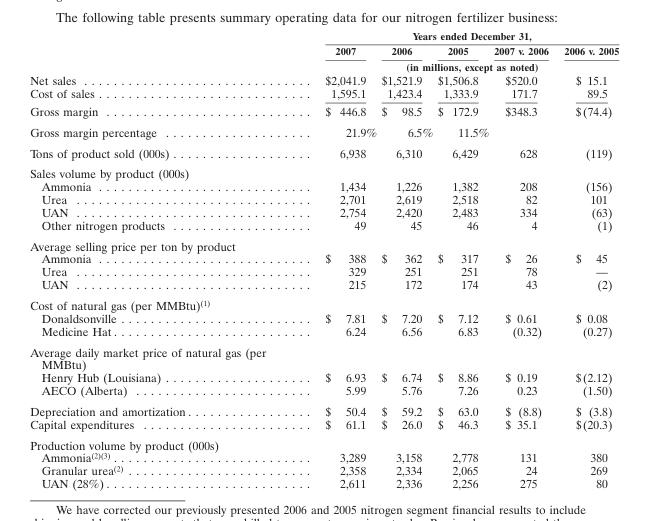table: (29, 29, 618, 490)
table column: (29, 29, 257, 490), (257, 29, 378, 490), (490, 29, 555, 490), (555, 29, 618, 490), (378, 29, 434, 490), (434, 29, 490, 490)
table column header: (29, 29, 618, 72)
table projected row header: (29, 341, 618, 370), (29, 162, 618, 179), (29, 294, 618, 311), (29, 235, 618, 251), (29, 434, 618, 450)
table row: (29, 341, 618, 370), (29, 121, 618, 142), (29, 142, 618, 162), (29, 102, 618, 121), (29, 162, 618, 179), (29, 218, 618, 235), (29, 277, 618, 294), (29, 294, 618, 311), (29, 324, 618, 341), (29, 383, 618, 400), (29, 400, 618, 417), (29, 417, 618, 434), (29, 86, 618, 102), (29, 235, 618, 251), (29, 434, 618, 450), (29, 43, 618, 58), (29, 29, 618, 43), (29, 58, 618, 72), (29, 72, 618, 86), (29, 476, 618, 490), (29, 179, 618, 192), (29, 192, 618, 205), (29, 205, 618, 218), (29, 251, 618, 264), (29, 264, 618, 277), (29, 311, 618, 324), (29, 370, 618, 383), (29, 450, 618, 463), (29, 463, 618, 476)
table spanning cell: (257, 29, 618, 43), (257, 58, 618, 72)
